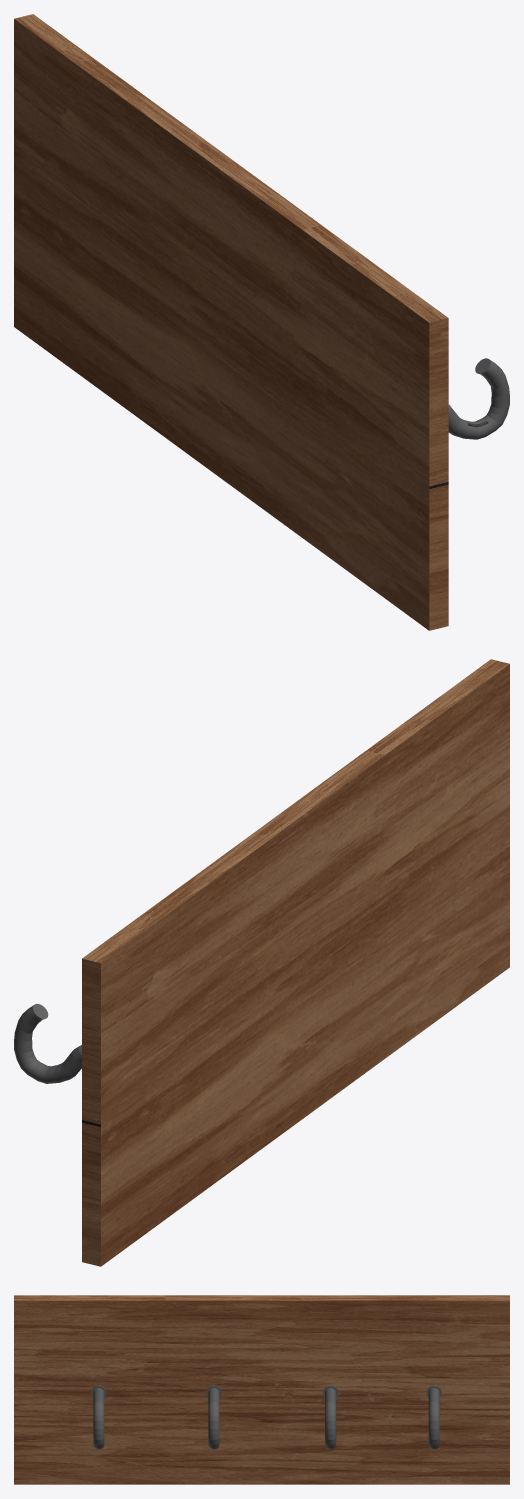
Rendered from Keyhanger NEW.fbx.
The picture shows the model from 3 angles, top to bottom: view 1: azimuth 30°, elevation 25°; view 2: azimuth 150°, elevation 25°; view 3: azimuth 270°, elevation 25°; orthographic projection. The views are drawn at different scales.
Parts seen in each view (by area): view 1: Keyhangerboard, Hook 4; view 2: Keyhangerboard, Hook 1; view 3: Keyhangerboard, Hook 4, Hook 3, Hook 1, Hook 2.
Part boxes in pixels (x1,y1,x2,y2): Keyhangerboard: (14,14,448,630); Hook 4: (448,358,509,439); Keyhangerboard: (82,659,509,1266); Hook 1: (14,1004,81,1083); Keyhangerboard: (14,1295,509,1484); Hook 4: (91,1385,106,1449); Hook 3: (206,1385,221,1449); Hook 1: (426,1385,441,1449); Hook 2: (323,1385,338,1449).
Bounding box in the file's own units: 8.63 × 16.89 × 41.25.
